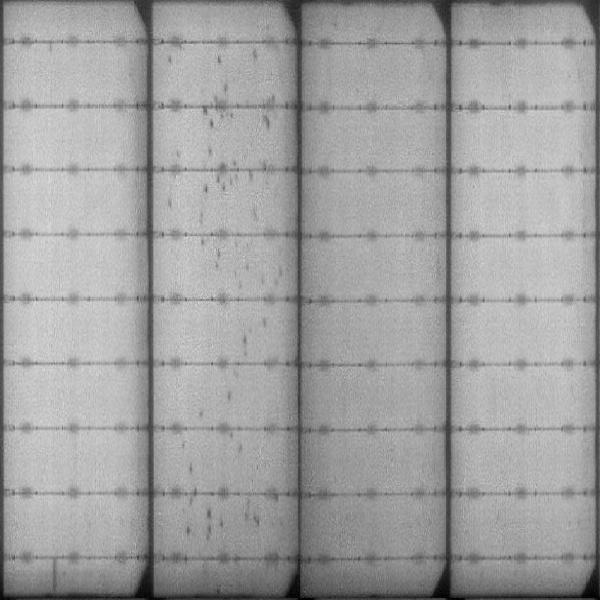scratch: (183, 507, 274, 546), (201, 110, 242, 138), (199, 175, 249, 194), (50, 557, 61, 599)
